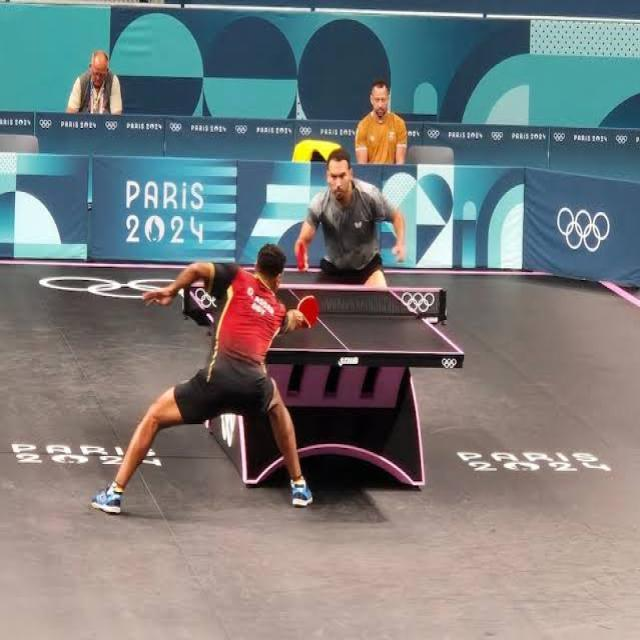TT Net: (182, 279, 448, 321)
TT Racket: (292, 289, 325, 334), (292, 239, 310, 276)
TT Table: (180, 279, 461, 354)
